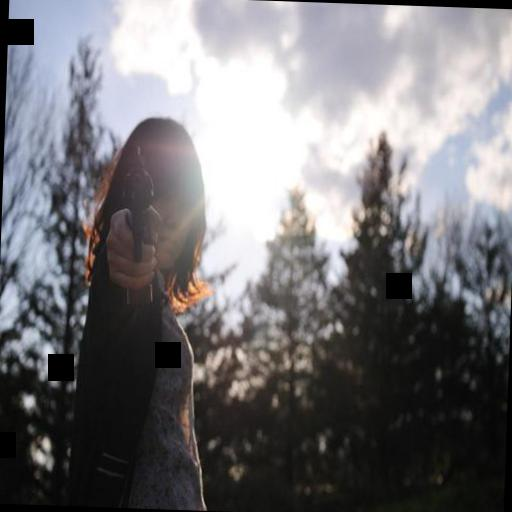Handgun: (106, 136, 158, 270)
